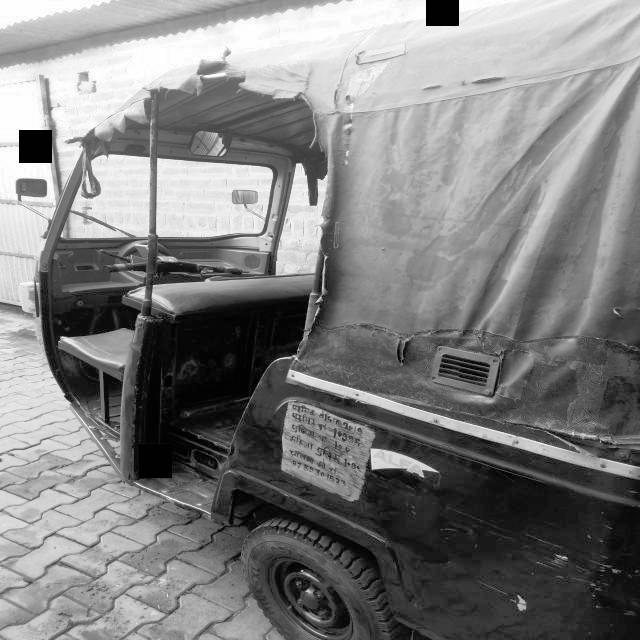Auto-Rickshaw: (52, 2, 640, 620)
